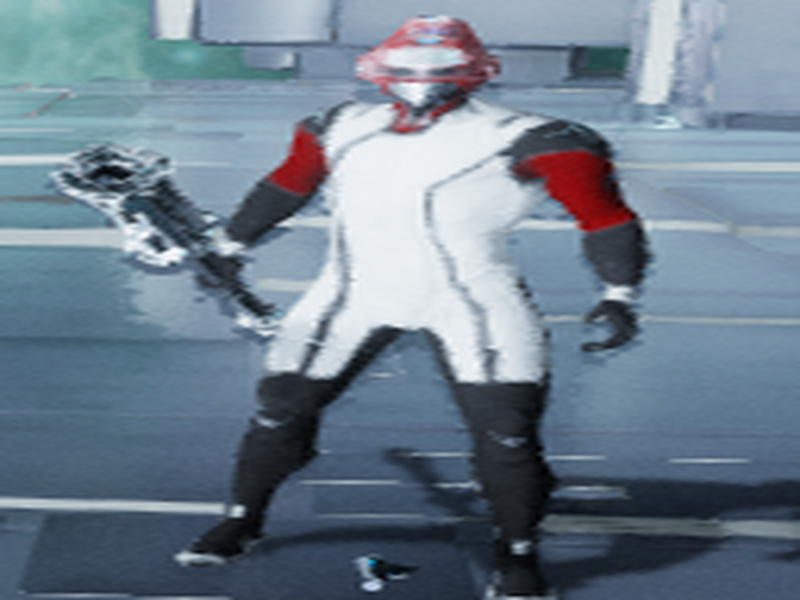corpus: (44, 11, 656, 600)
